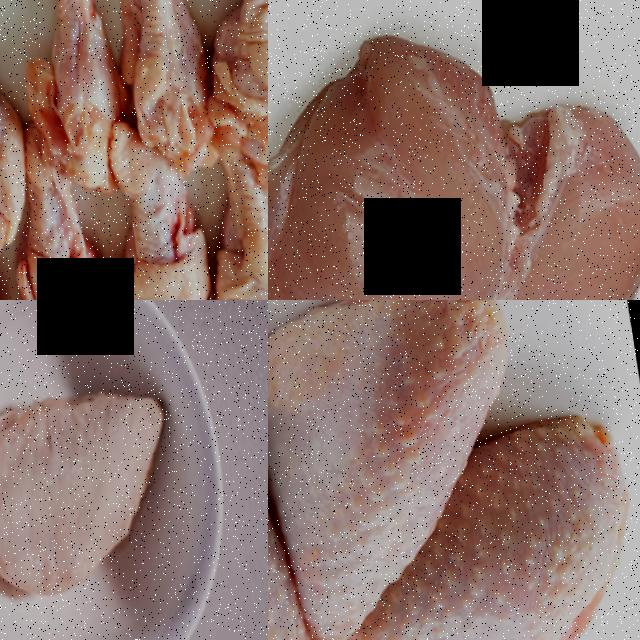chicken breast: (268, 0, 640, 300), (0, 321, 184, 631)
chicken thigh: (268, 300, 543, 609), (367, 422, 640, 640), (101, 120, 223, 300), (6, 129, 125, 300), (109, 0, 220, 179), (189, 0, 268, 194), (192, 149, 268, 300), (0, 0, 39, 268)
